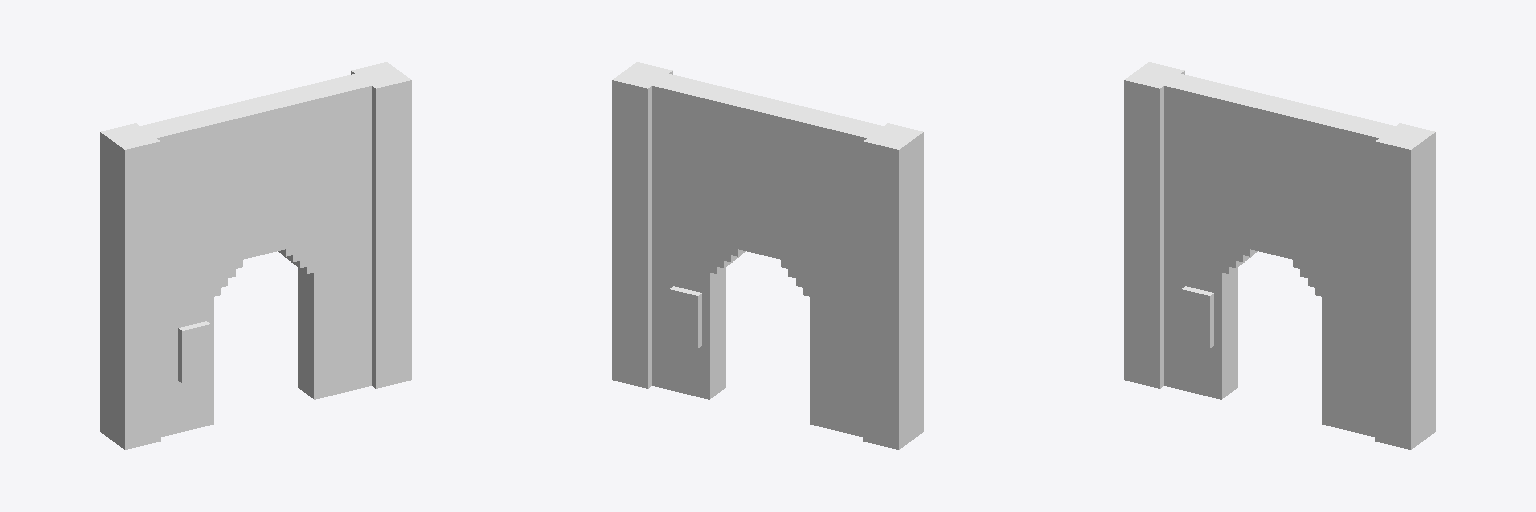
The model's file is glue_door_a.obj.
3 views of the same model, side by side, from view 1: azimuth 30°, elevation 25°; view 2: azimuth 150°, elevation 25°; view 3: azimuth 330°, elevation 25° (orthographic).
Parts seen in each view (by area): view 1: object 1; view 2: object 1; view 3: object 1.
Boxes of the visible parts, x1=… form: object 1: x1=100, y1=62, x2=411, y2=449; object 1: x1=612, y1=62, x2=923, y2=449; object 1: x1=1124, y1=62, x2=1435, y2=449.
Bounding box in the file's own units: 4 × 4 × 0.6.